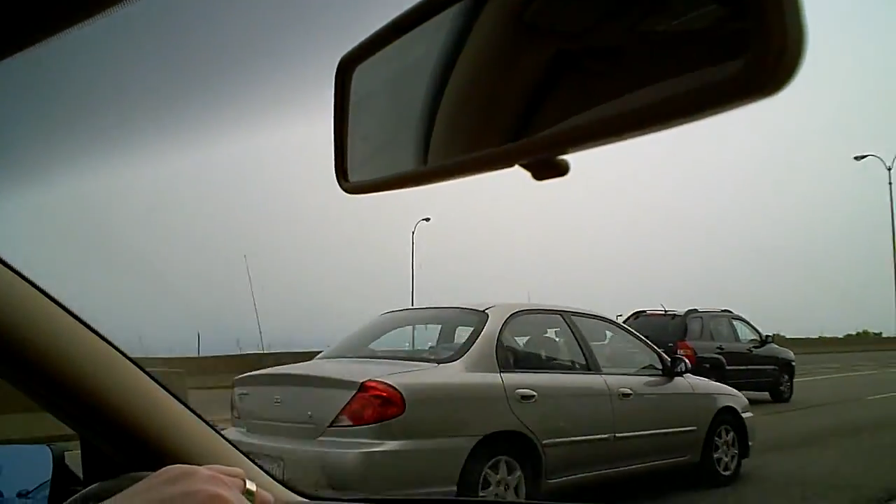car: (210, 300, 756, 504), (595, 304, 798, 407)
